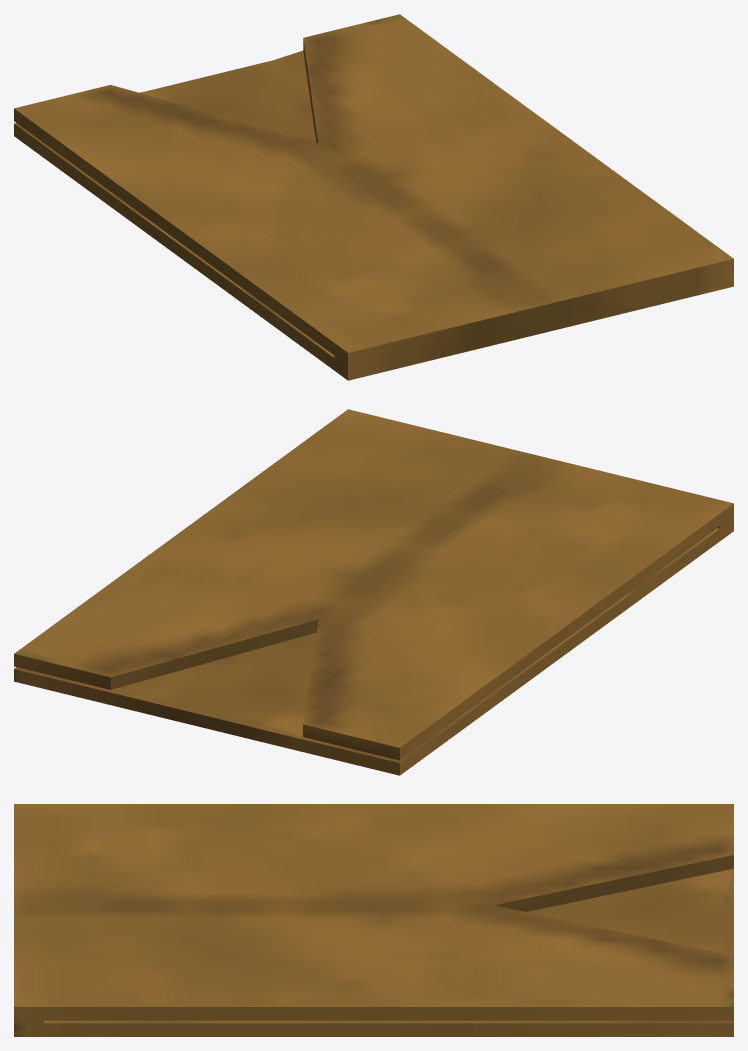
Rendered from Clothes 03.obj.
3 renders of one model, top to bottom at view 1: azimuth 30°, elevation 25°; view 2: azimuth 150°, elevation 25°; view 3: azimuth 270°, elevation 25°, orthographic. The views are drawn at different scales.
Visible parts, largest first — view 1: Clothes_03; view 2: Clothes_03; view 3: Clothes_03.
Part boxes in pixels (x1,y1,x2,y2): Clothes_03: [14, 14, 733, 380]; Clothes_03: [14, 409, 733, 775]; Clothes_03: [14, 804, 733, 1036].
Bounding box in the file's own units: 4.03 × 0.2772 × 6.05.
